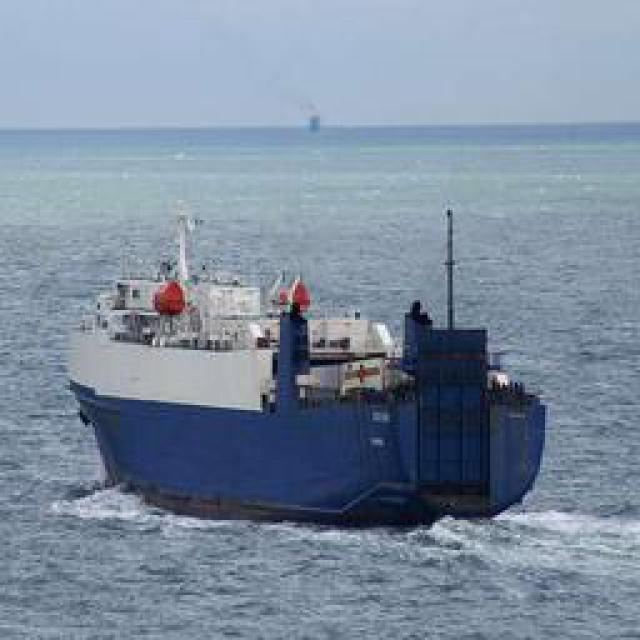Ship: (85, 201, 543, 529)
